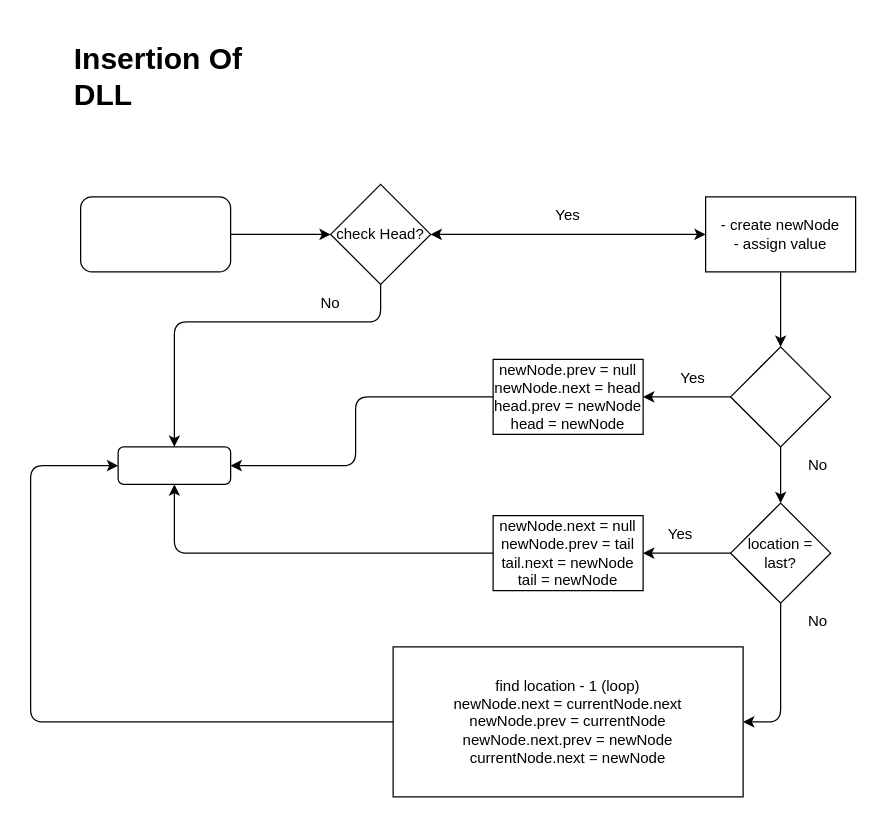
The diagram is 878 pixels wide and 819 high, and some of its shapes have lost their labels. The box of each missing label's shape, as (x1, y1, x2, y2) in pixels:
location = first?: (729, 346, 831, 447)
nodeValue location: (79, 196, 231, 272)
TERMINATE: (117, 446, 231, 484)
